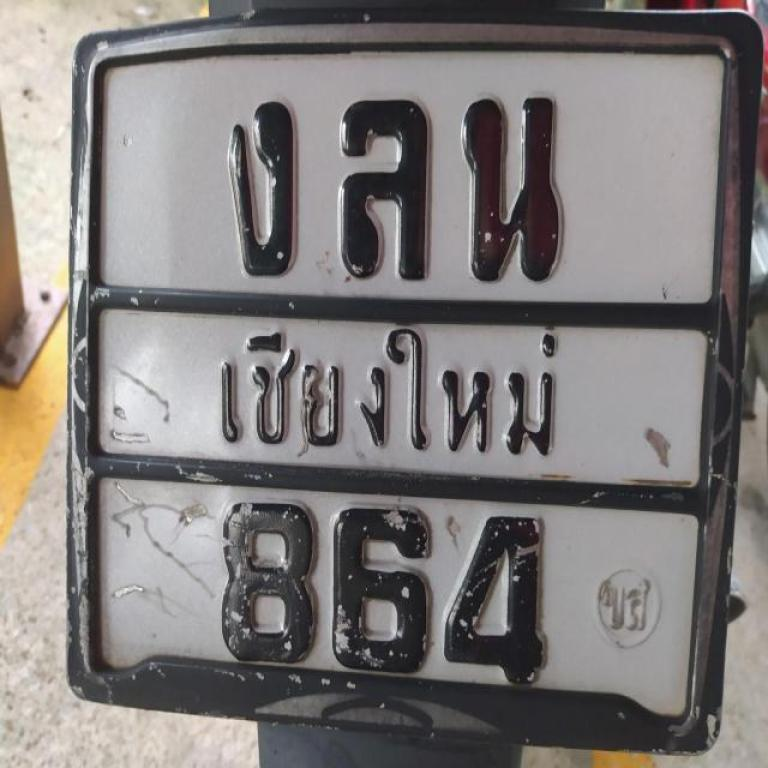license plate: (67, 10, 728, 768)
